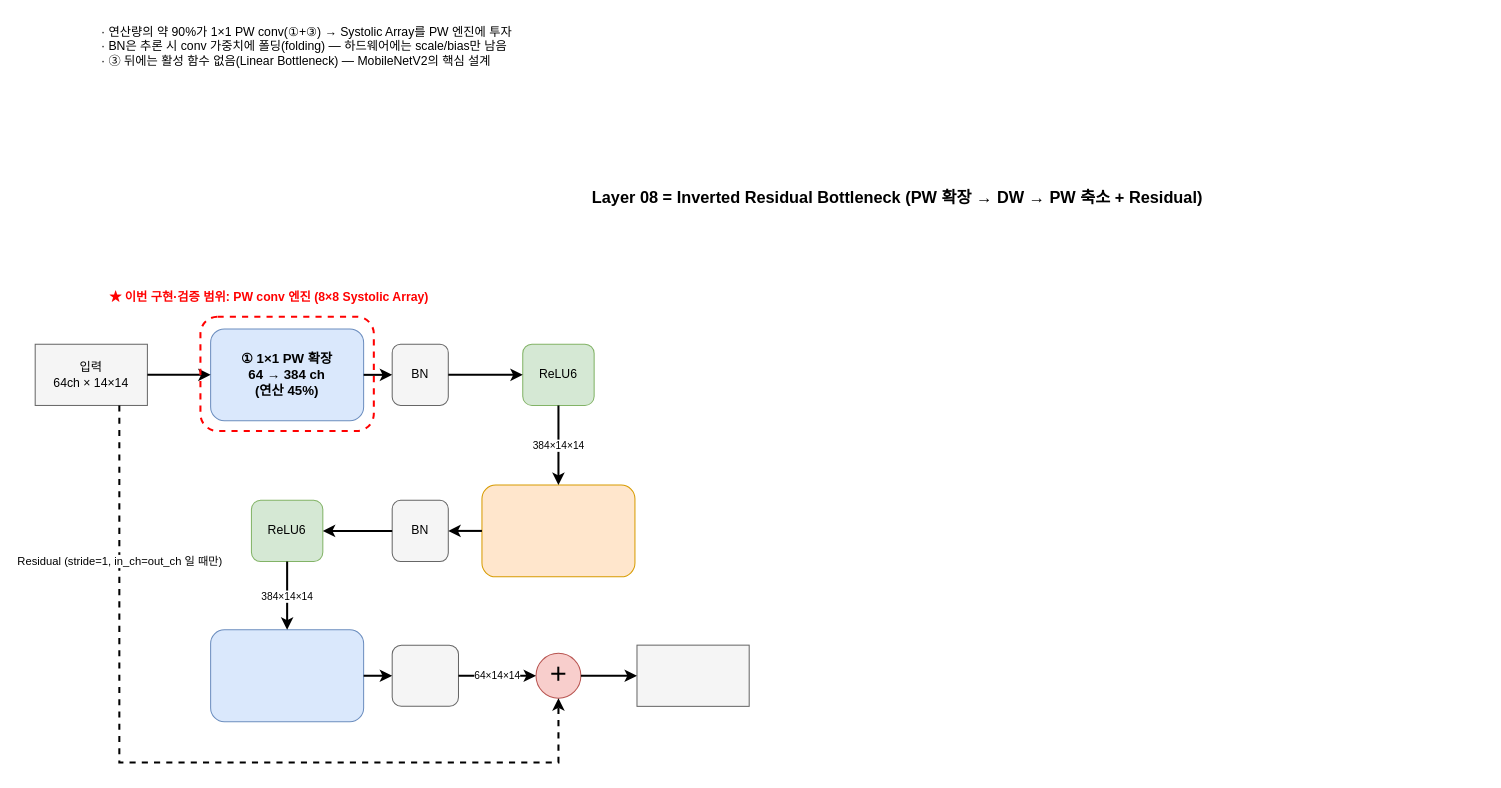
This 1501x788 diagram has some shape labels left out. Each missing label, with the box of its shape:
BN (Linear): (391, 644, 458, 706)
② 3×3 DW conv 채널별, stride 1 (연산 6%): (481, 484, 635, 577)
③ 1×1 PW 축소 384 → 64 ch (연산 45%): (210, 629, 364, 722)
출력 64ch × 14×14: (636, 644, 749, 706)
